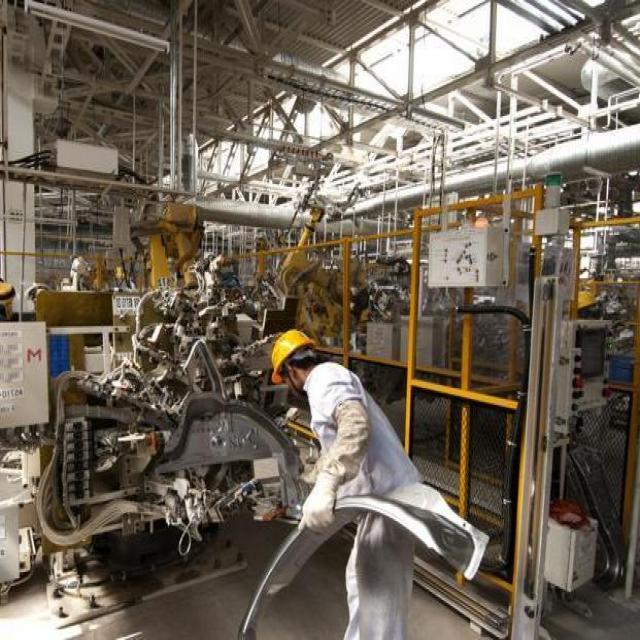Safety-Helmet: (268, 322, 316, 378)
